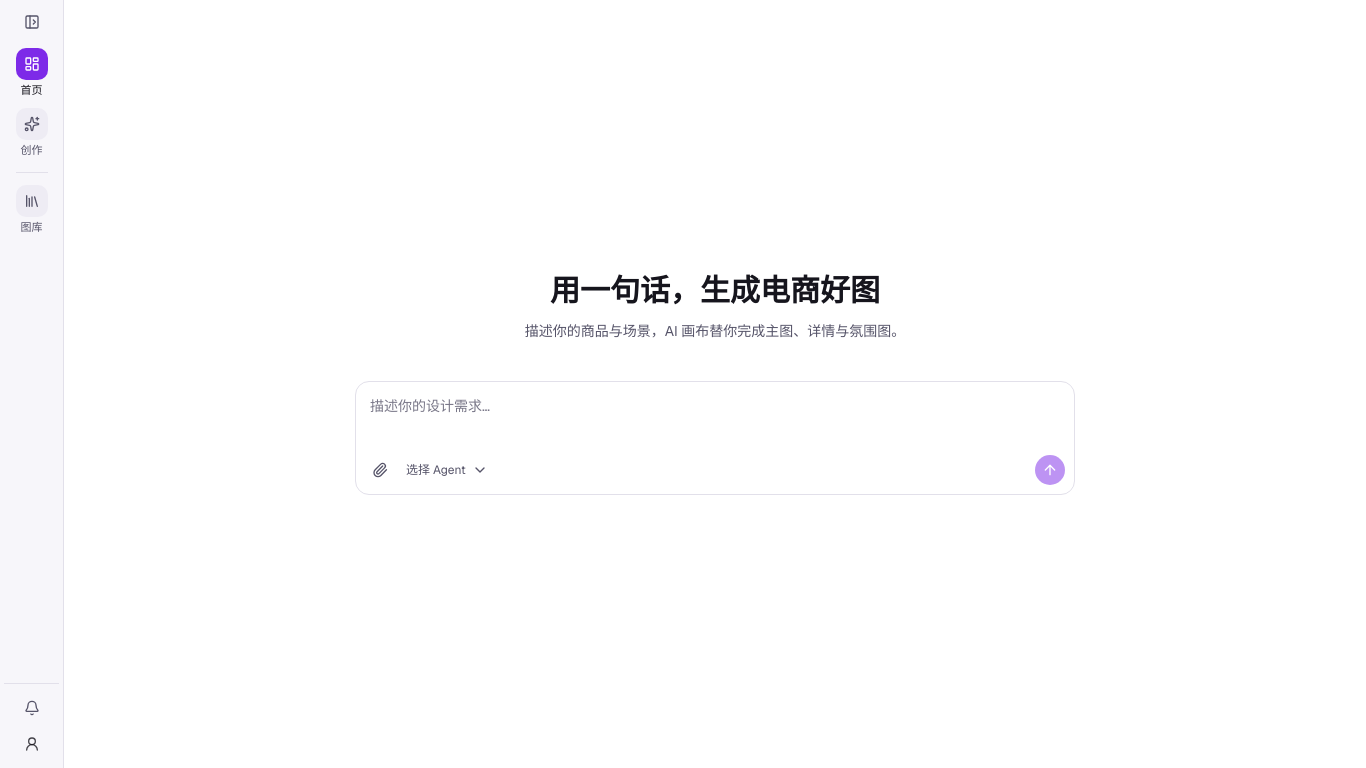
Test: 首页落地页 › 激活一级项：展开其二级面板，并落到该组的第一个子项
Expected: the button with test id "nav-home" is shown, [4, 44, 59, 102]
// 图库 → 默认子项是主区视图（作品集）：展开面板并切主区
What coordinates should you click on to do the following:
click the button with test id "nav-library"
I would click on:
 (32, 209)
Its box is [4, 180, 59, 238].
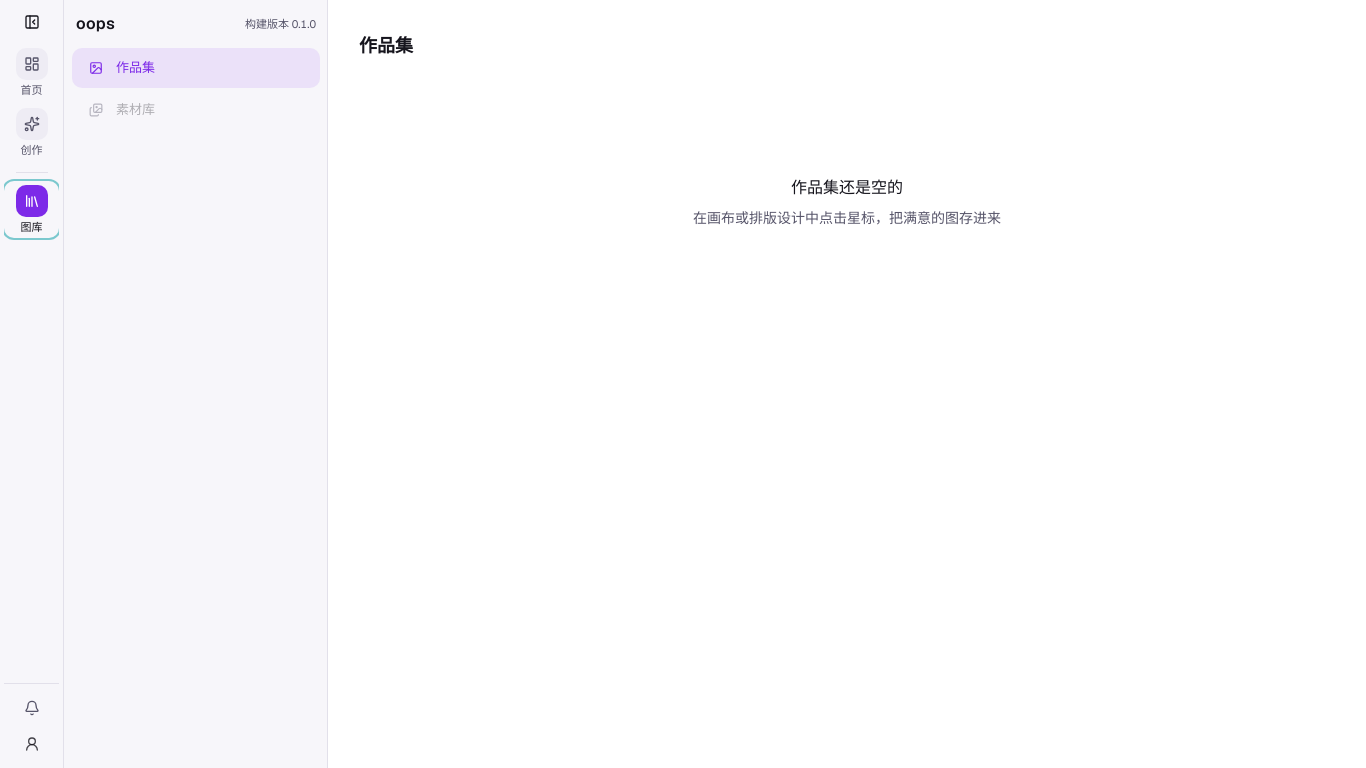
Result: the element with test id "nav-panel-library" is shown at [64, 0, 328, 138]
Result: the text "作品集还是空的" is shown at [791, 176, 903, 200]
// 创作 → 换成创作自己的面板（单开）
What coordinates should you click on to do the following:
click the button "创作"
I would click on:
 (32, 133)
Its box is [4, 104, 59, 162].
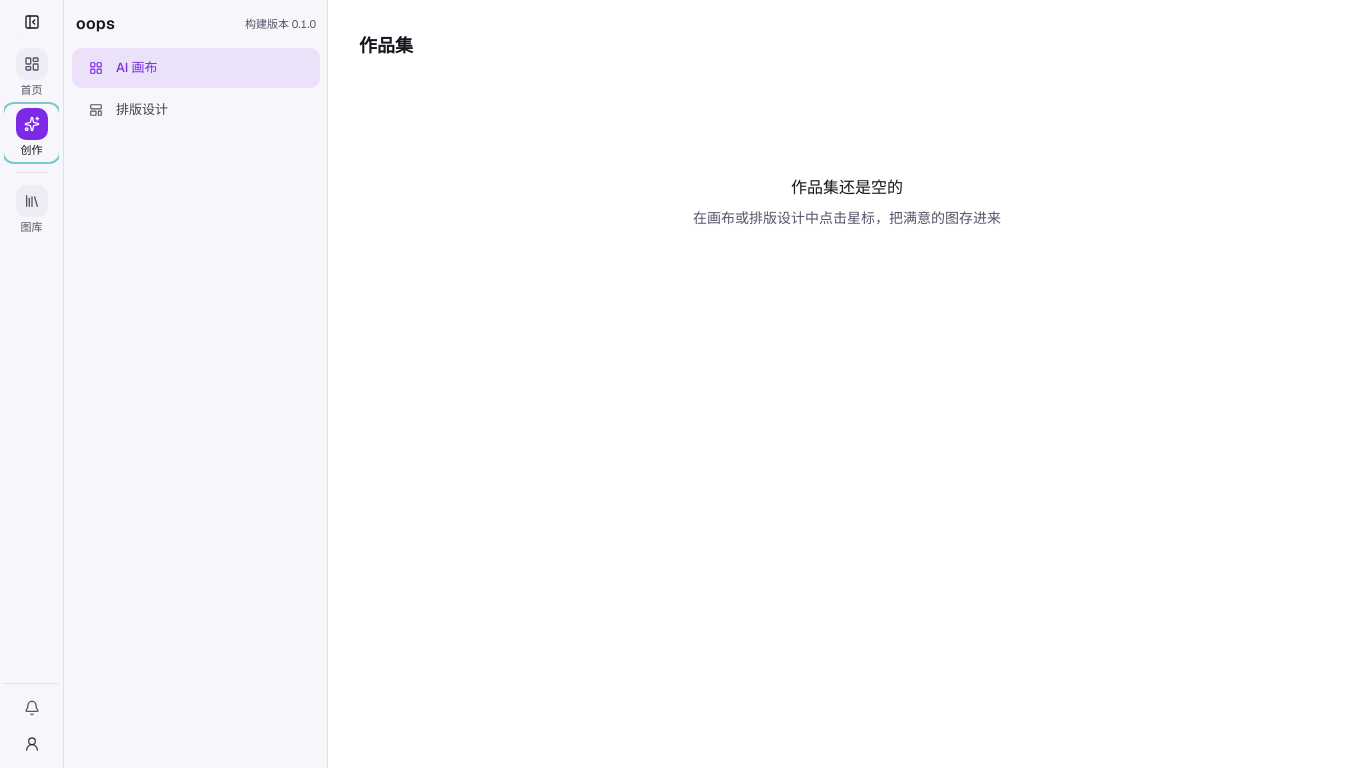
Result: the element with test id "nav-panel-create" is shown at [64, 0, 328, 138]
